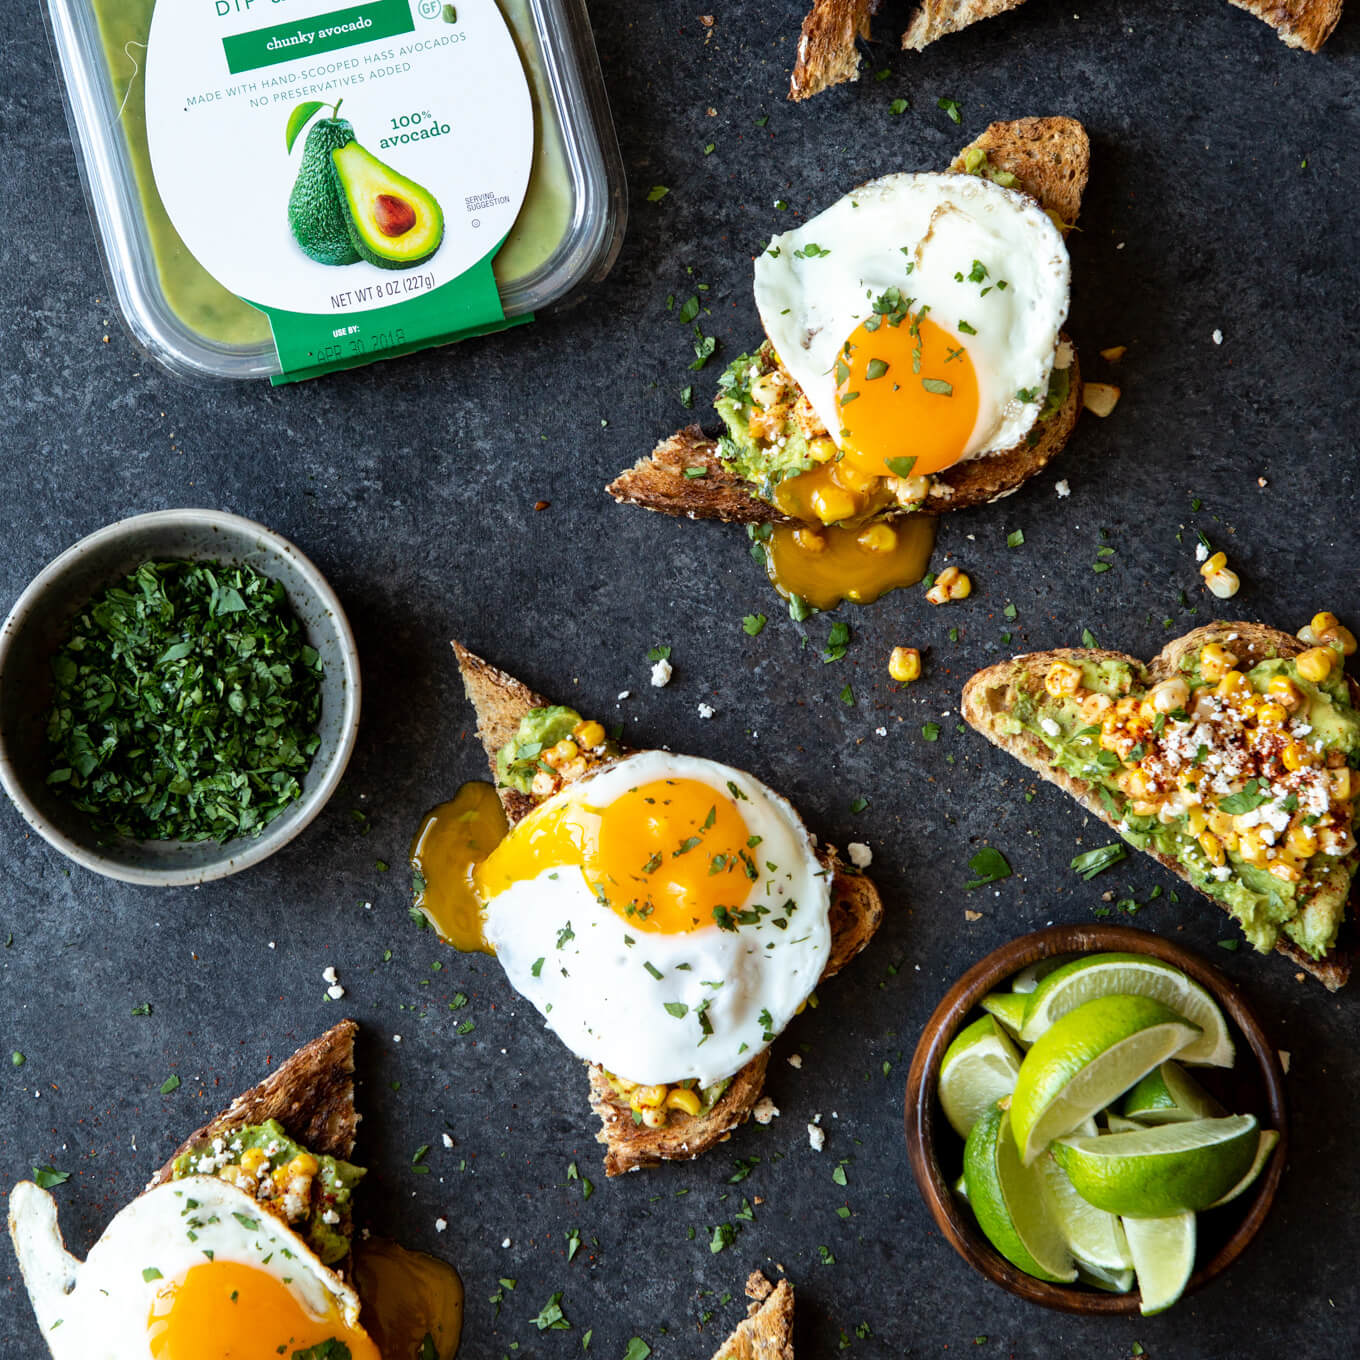chopped lettuce: (96, 603, 279, 793)
fried egg: (511, 778, 807, 1018), (824, 255, 1034, 470), (141, 1234, 314, 1359)
